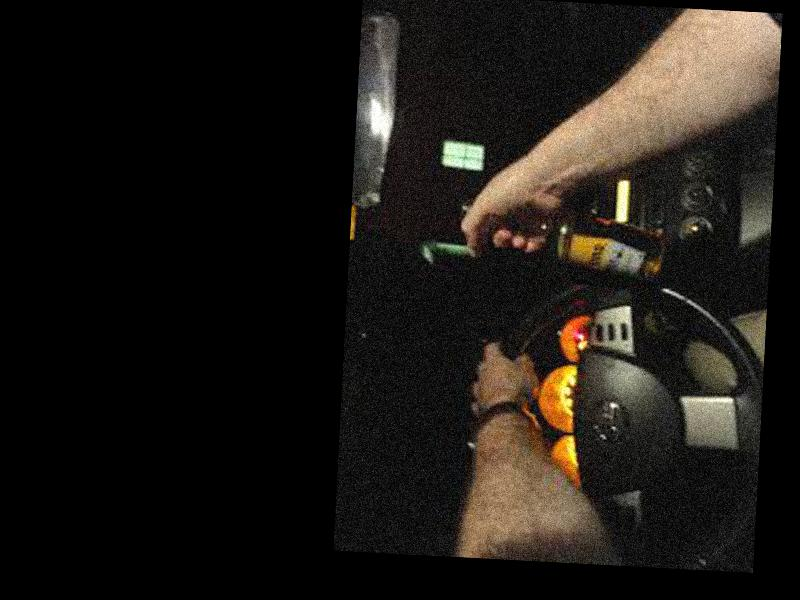Beer: (458, 197, 664, 288)
